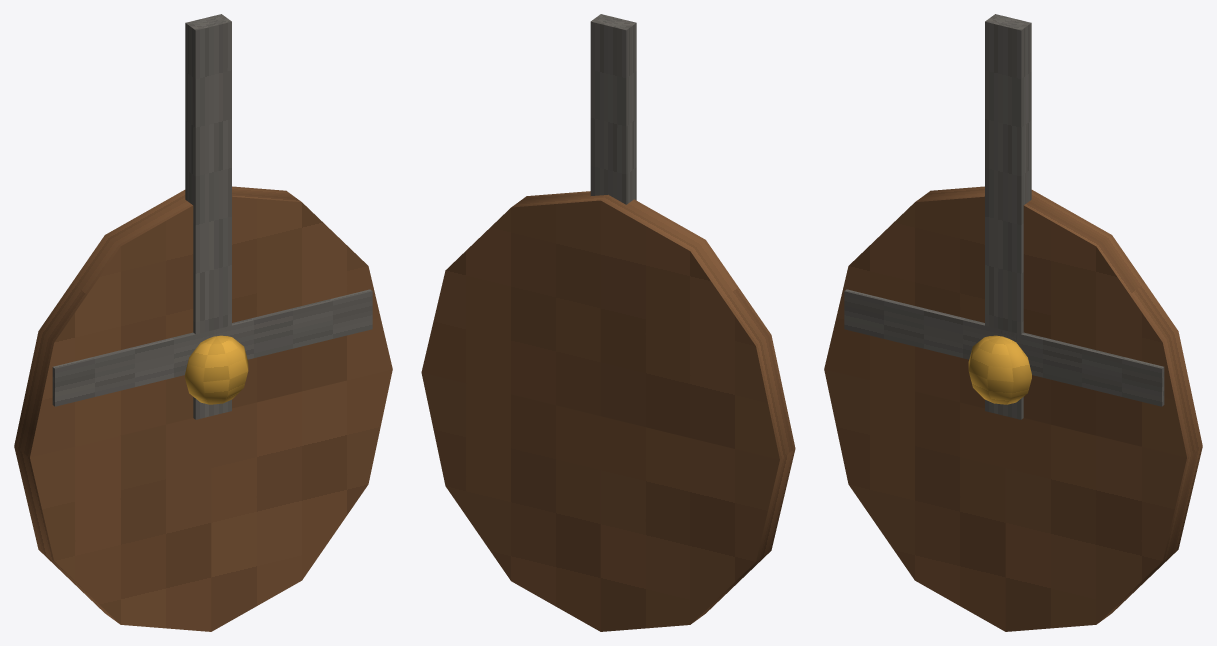
File: escudo.glb
3 renders of one model, left to right at view 1: azimuth 30°, elevation 25°; view 2: azimuth 150°, elevation 25°; view 3: azimuth 330°, elevation 25°, orthographic.
Visible parts, largest first — view 1: escudo; view 2: escudo; view 3: escudo.
Part boxes in pixels (box(x1,y1,x2,y2)): escudo: box(14, 14, 392, 631); escudo: box(421, 14, 795, 631); escudo: box(824, 14, 1202, 631).
Bounding box in the file's own units: 0.8 × 1.28 × 0.13.
Materials: 3 (3 with a texture image).
